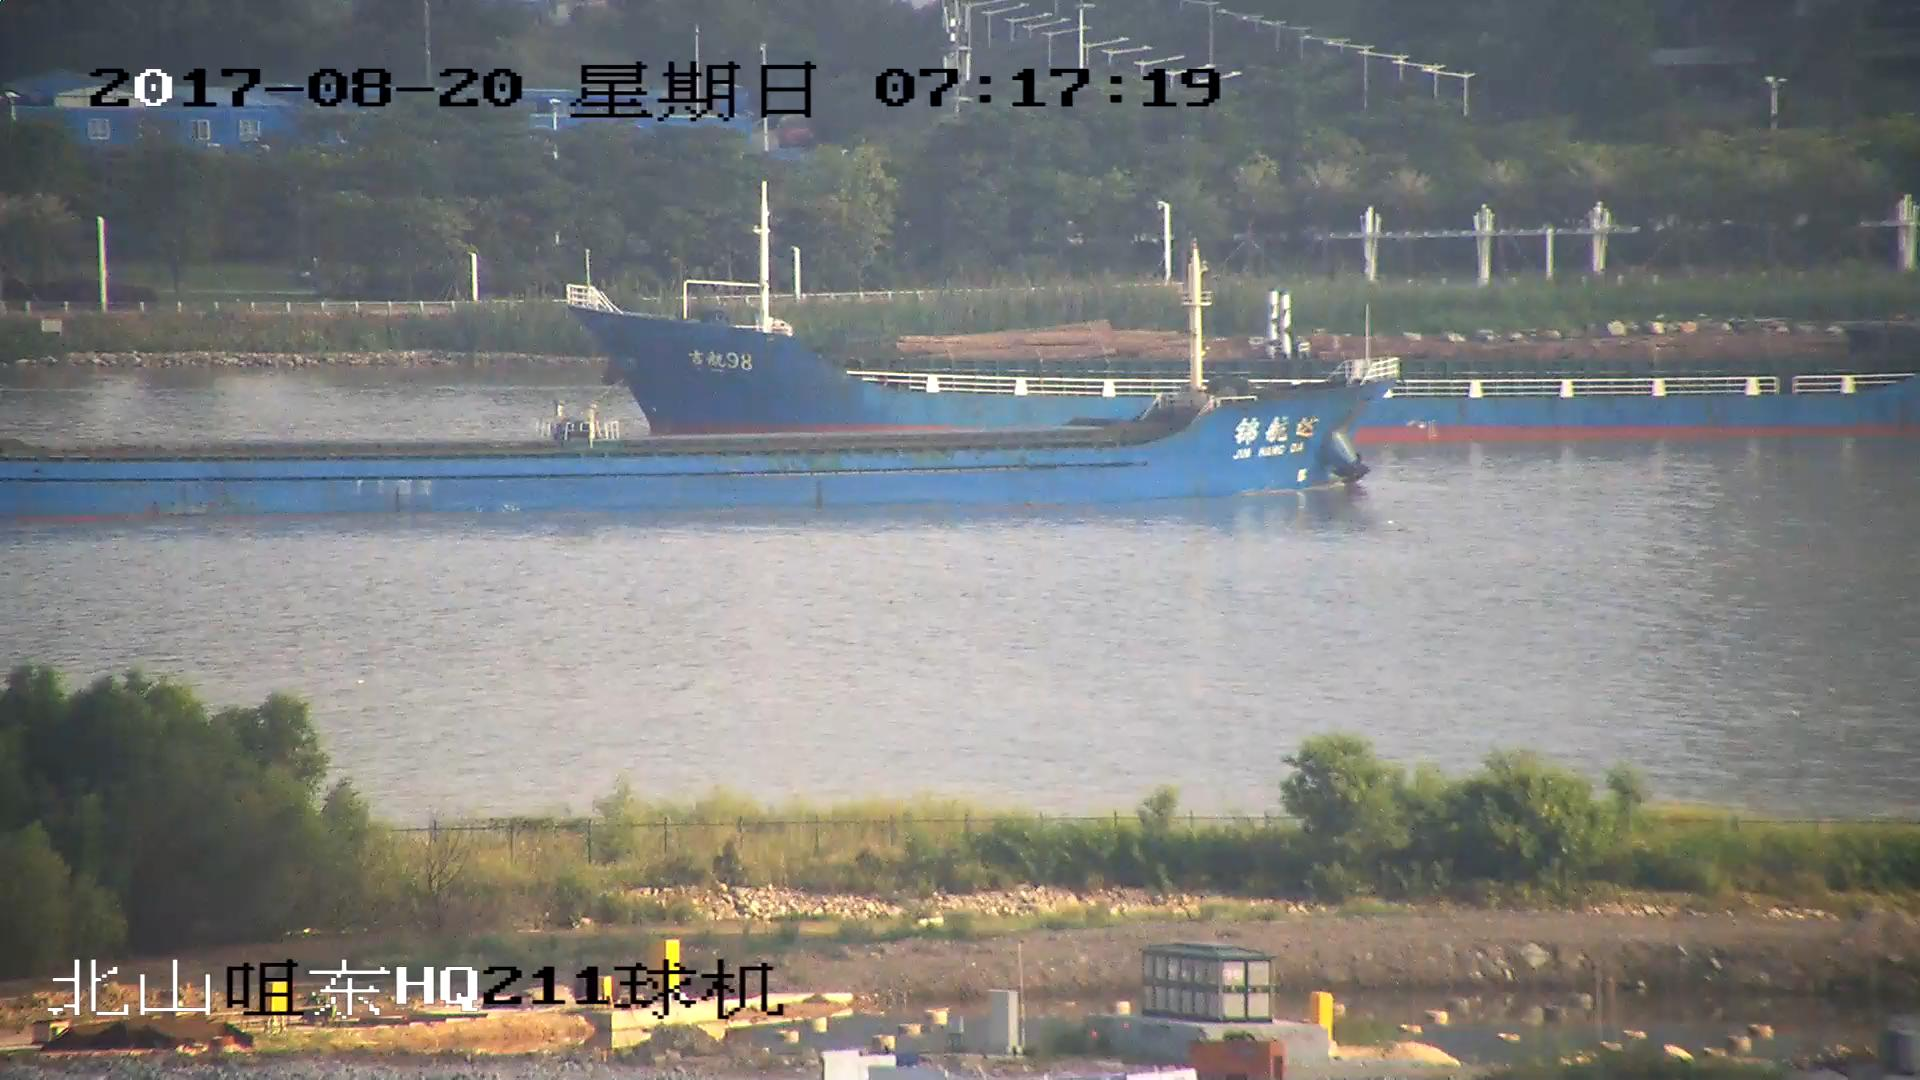general cargo ship: (1, 250, 1379, 512), (569, 190, 1920, 436)
